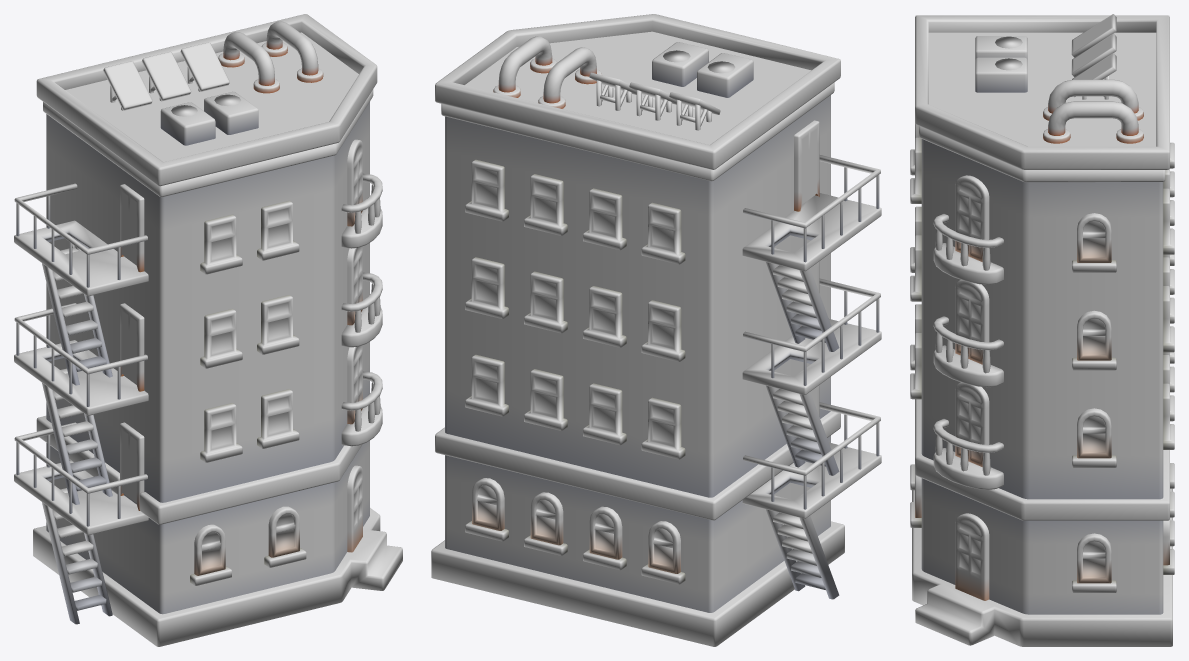
The model's file is Building_089.fbx.
The picture shows the model from 3 angles, left to right: view 1: azimuth 30°, elevation 25°; view 2: azimuth 150°, elevation 25°; view 3: azimuth 270°, elevation 25°; orthographic projection. The views are drawn at different scales.
Visible parts, largest first — view 1: Building_089; view 2: Building_089; view 3: Building_089.
Boxes of the visible parts, x1,y1,x2,y2 form: Building_089: [14, 14, 402, 646]; Building_089: [431, 14, 881, 646]; Building_089: [910, 14, 1174, 646].
Size of the model in its own units: 1145 by 766 by 1656.
